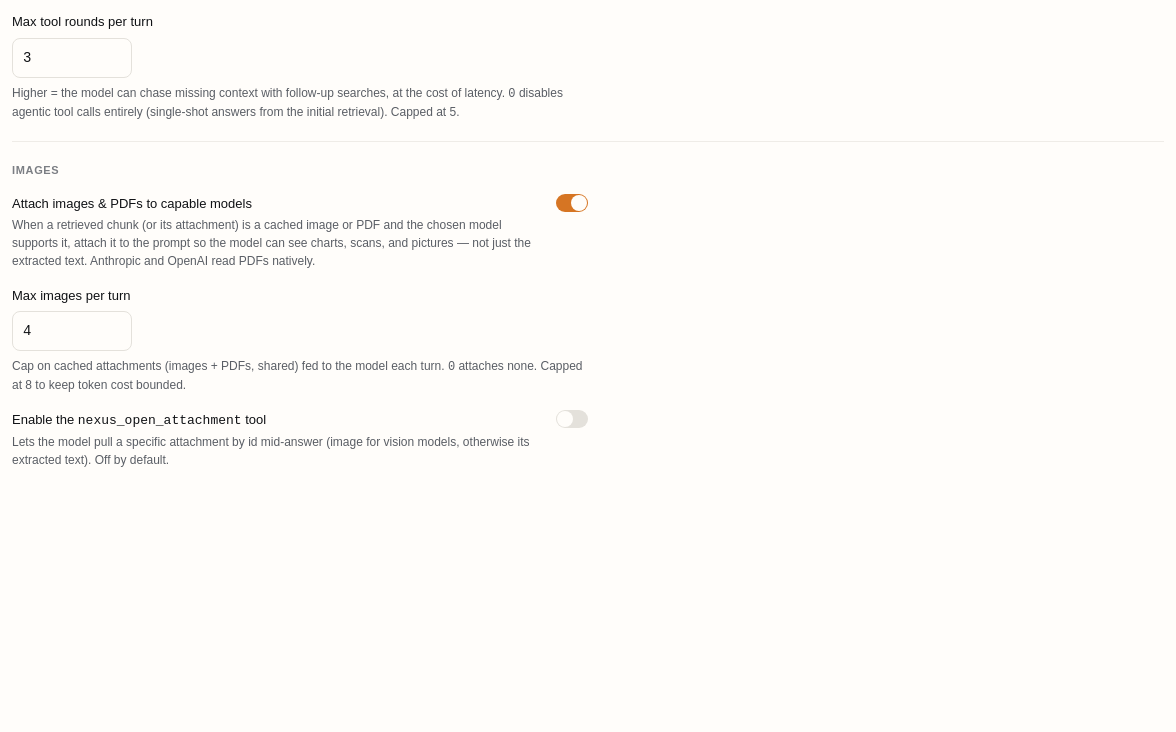
it: RAGForm › disables Save when a value is out of range
Replace the text in the number field named "Max tool rounds per turn" with "9": (72, 58) 12,38 -> 132,78
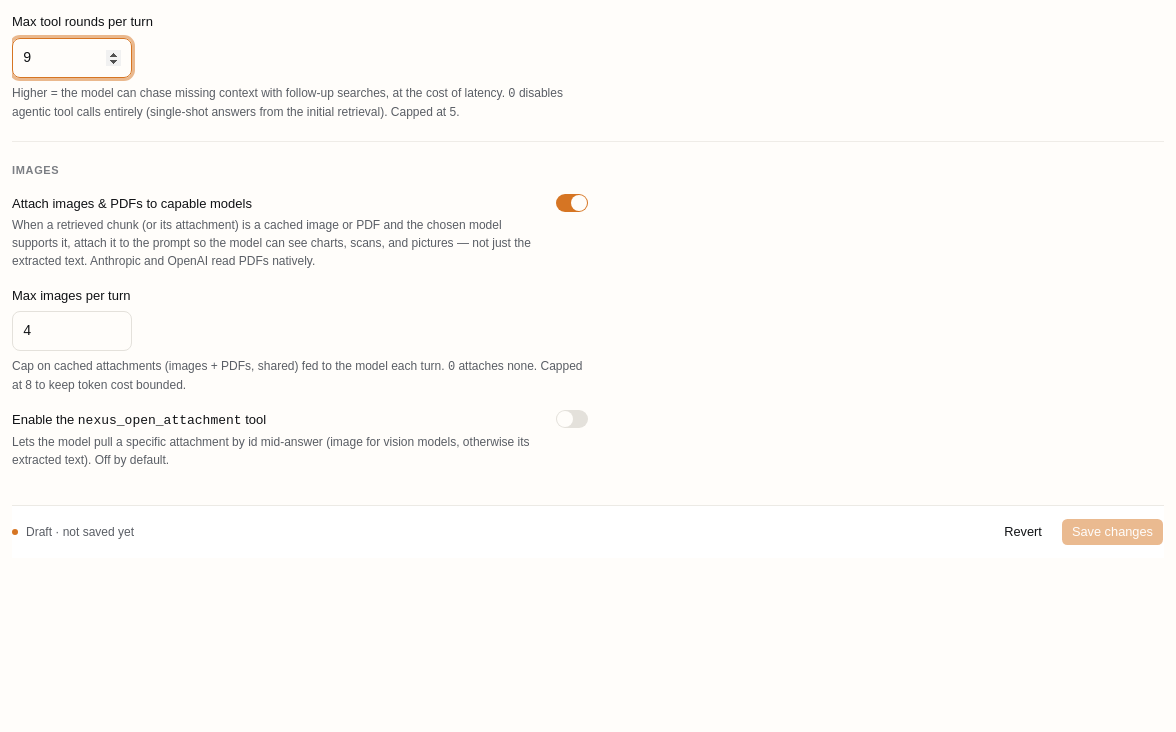
Expected: the button "Save changes" is disabled, 1061,518 -> 1164,546
